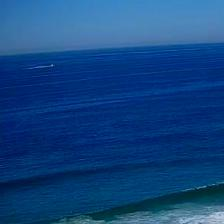surfer: (102, 206, 107, 210)
